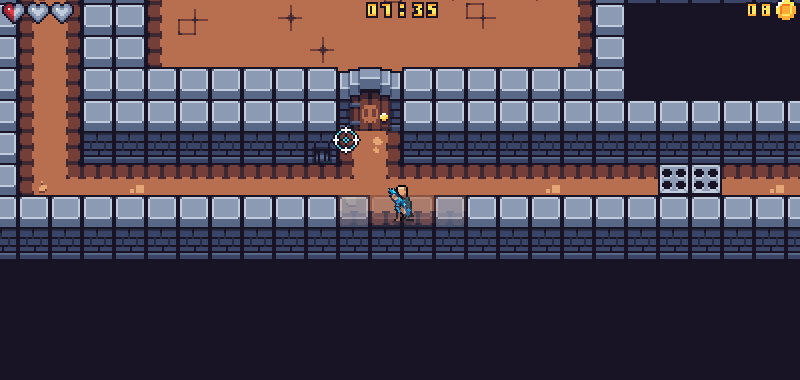door: (335, 66, 406, 130)
trap_off: (658, 163, 722, 196)
